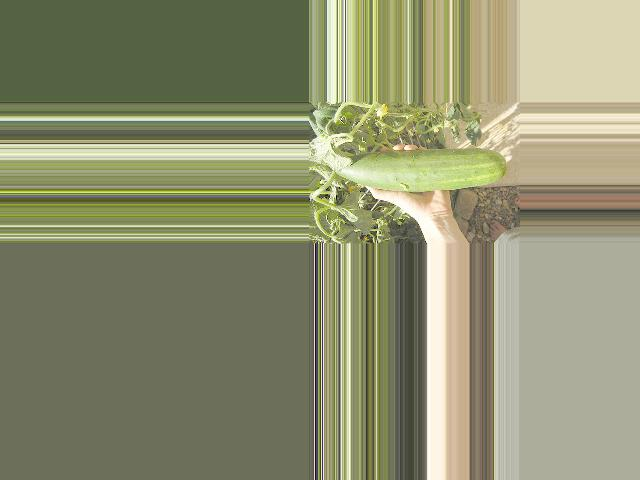cucumber: (333, 148, 507, 191)
